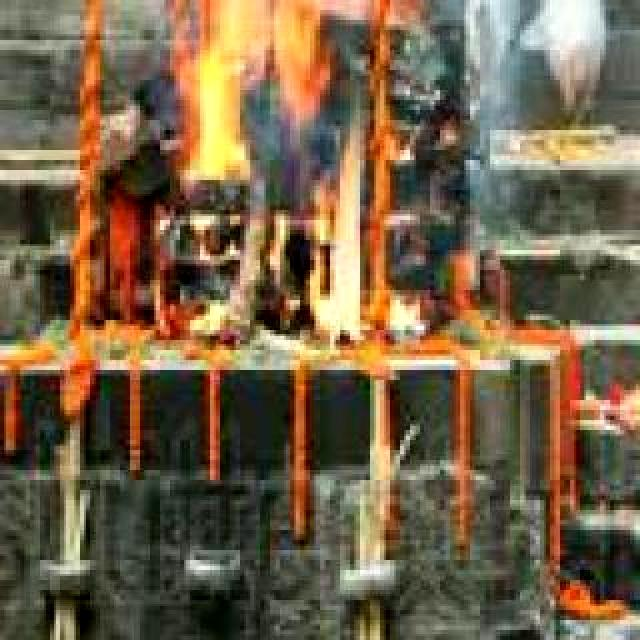fire: (162, 0, 372, 352)
